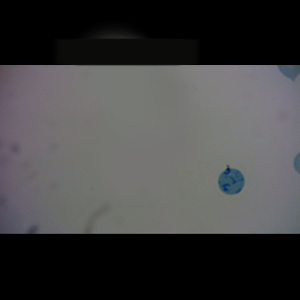aggregate reticulocyte: (217, 167, 245, 196)
